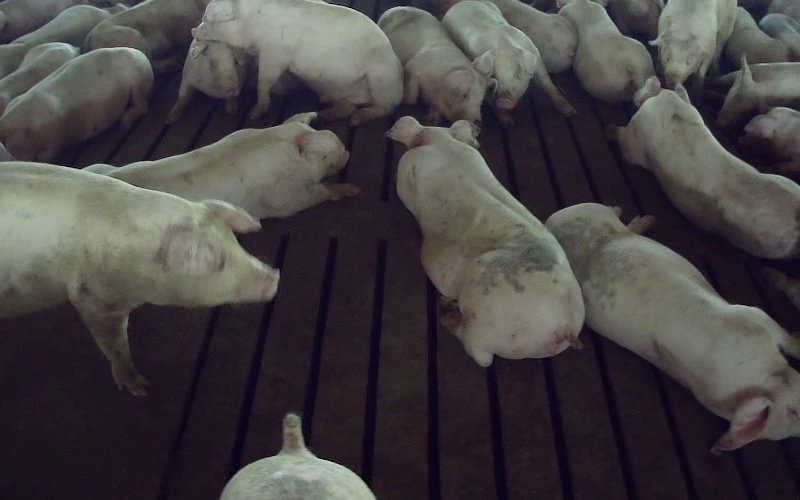pig: (547, 203, 799, 452), (387, 117, 584, 366), (615, 77, 799, 259), (87, 112, 358, 218), (194, 0, 402, 125), (0, 47, 153, 161), (442, 0, 574, 125), (558, 0, 654, 103), (0, 4, 127, 78), (166, 39, 245, 124), (492, 0, 577, 72), (0, 42, 79, 114), (718, 57, 799, 127)
